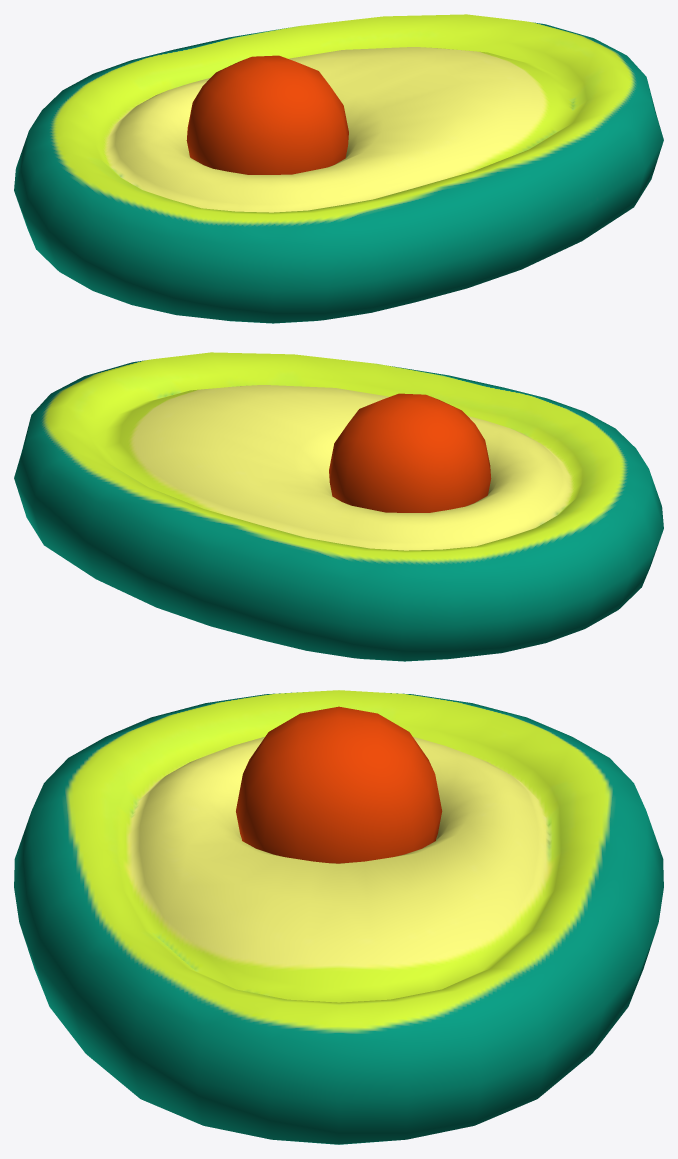
The model's file is Phao8.fbx.
3 renders of one model, top to bottom at view 1: azimuth 30°, elevation 25°; view 2: azimuth 150°, elevation 25°; view 3: azimuth 270°, elevation 25°, orthographic. The views are drawn at different scales.
Parts seen in each view (by area): view 1: 0.001; view 2: 0.001; view 3: 0.001.
Part boxes in pixels (bbox=[...]): 0.001: bbox=[14, 14, 663, 323]; 0.001: bbox=[14, 352, 663, 661]; 0.001: bbox=[14, 690, 663, 1144].
Bounding box in the file's own units: 1.82 × 0.5388 × 1.36.
